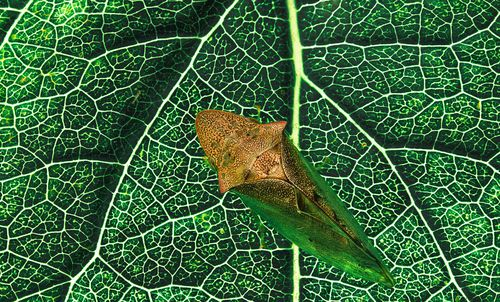Cicadellidae: (193, 108, 398, 286)
